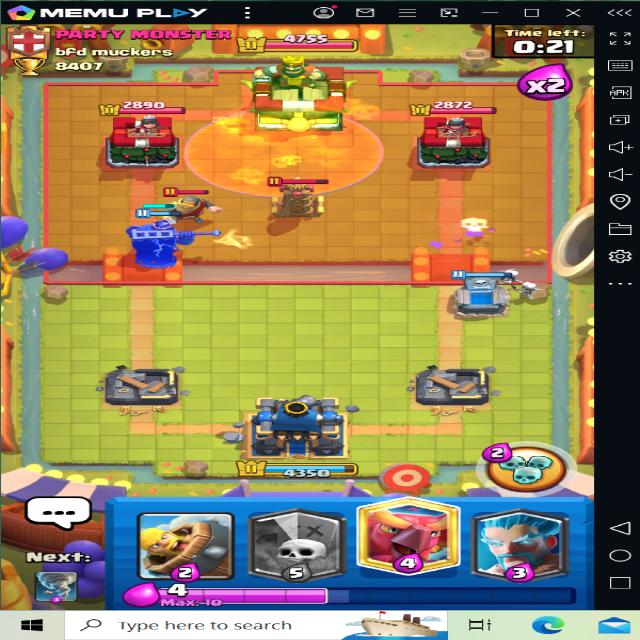knight: (156, 176, 214, 229)
tesla: (260, 173, 342, 218)
